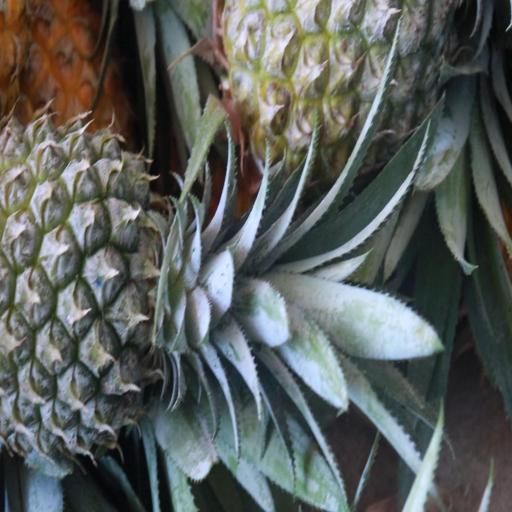------------------------------: (224, 0, 458, 178)
